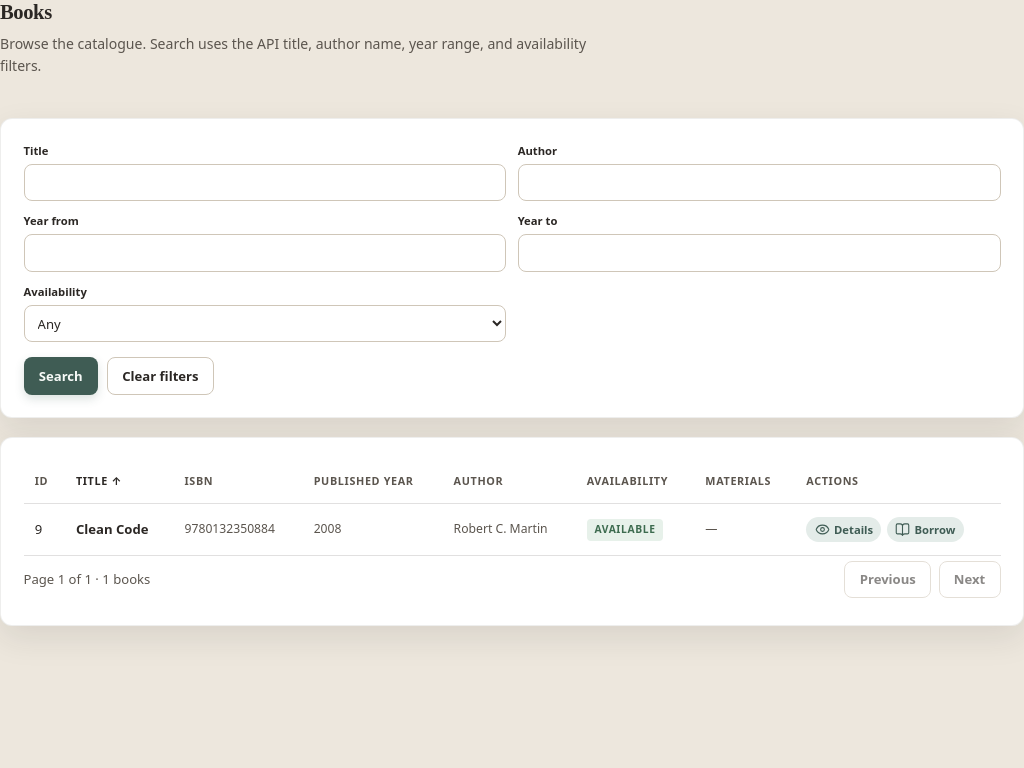
BooksPage borrow flow › refetches availability after a successful USER borrow
Click the button "Borrow".
click(925, 530)  # box [887,517,964,542]
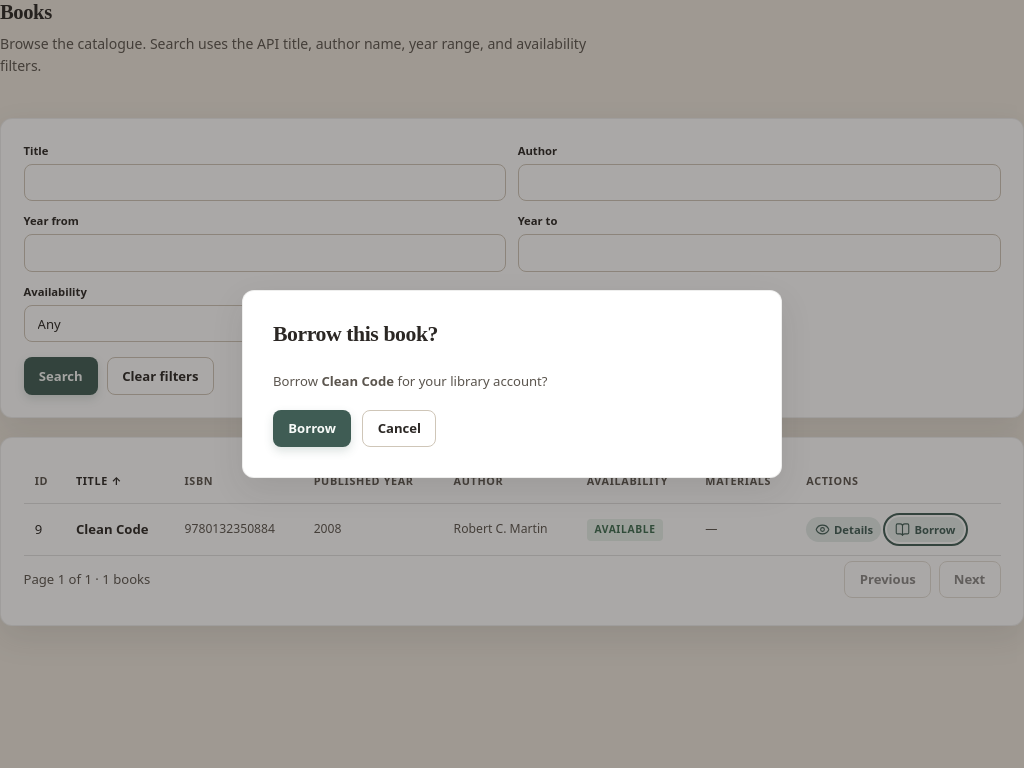
Click the button "Borrow".
click(312, 428)  # box [273,410,351,447]
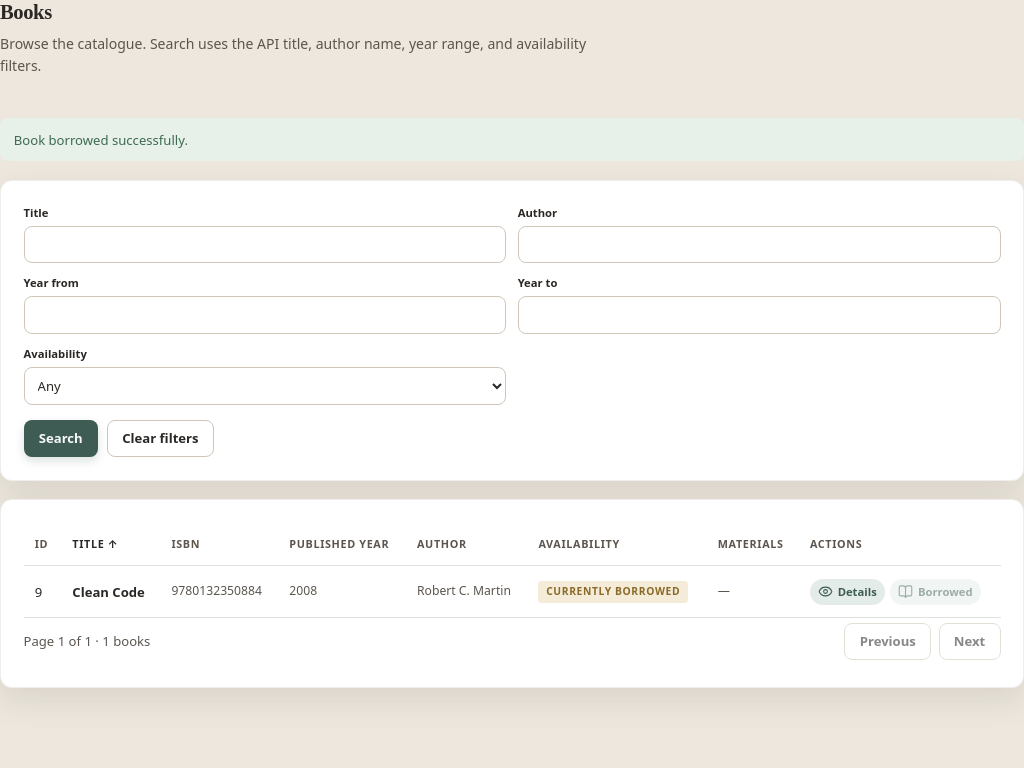
Check: the text "Currently borrowed" is shown, box [538,582,688,603]
Check: the button "Borrowed" is disabled, box [890,579,981,605]
